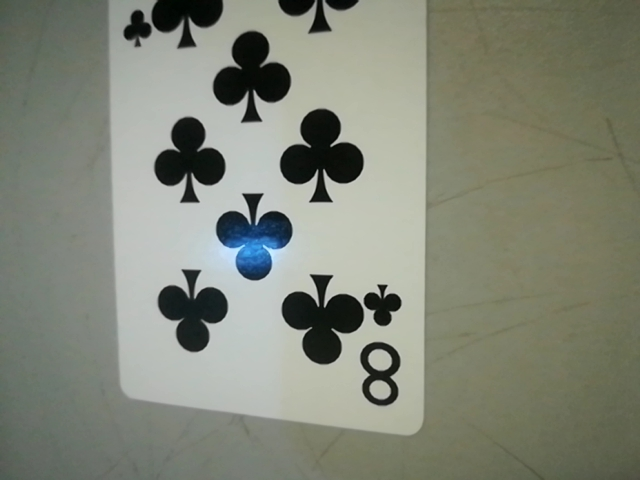mh 8: (351, 280, 419, 416)
